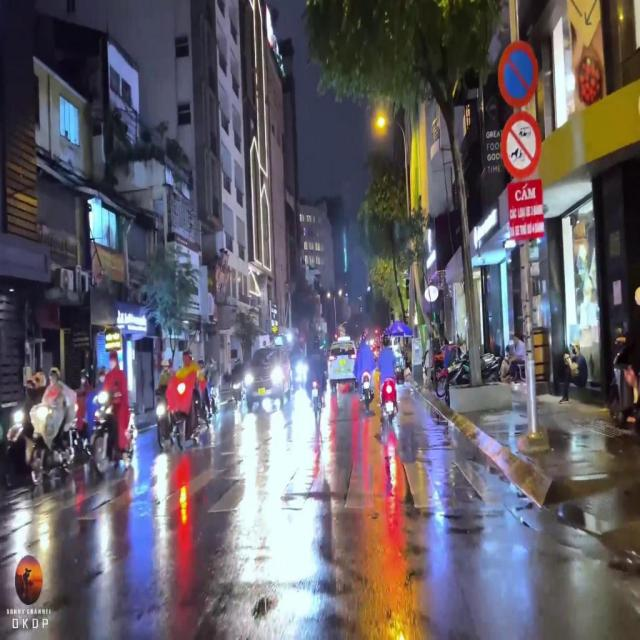cam_cac_loai_xe_3_banh: (501, 111, 541, 178)
cam_do_xe: (497, 41, 538, 108)
